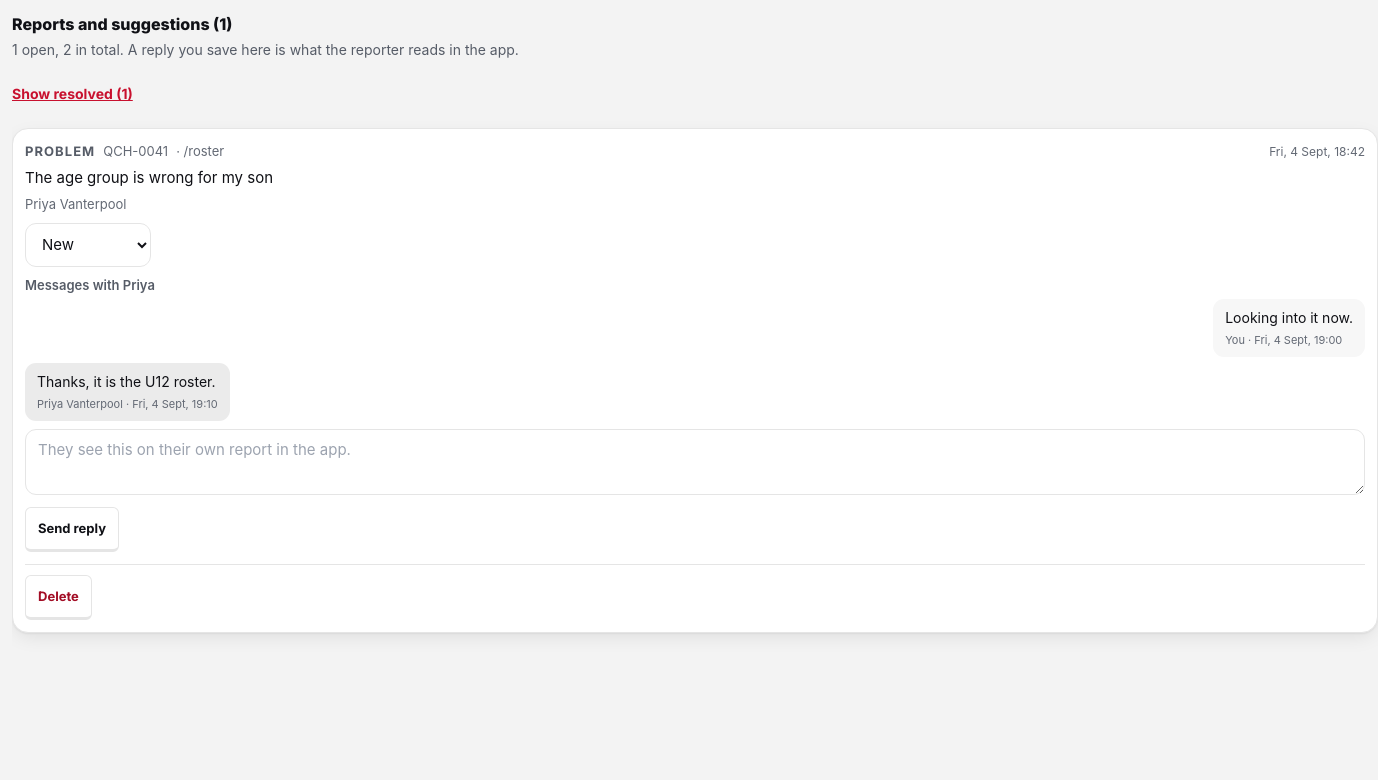
Scenario: the triage list › puts the truth back when a status change fails
The image size is (1378, 780).
Select "Done" in the dropdown named "status for QCH-0041" at (88, 245), box x1=25 y1=223 x2=151 y2=267
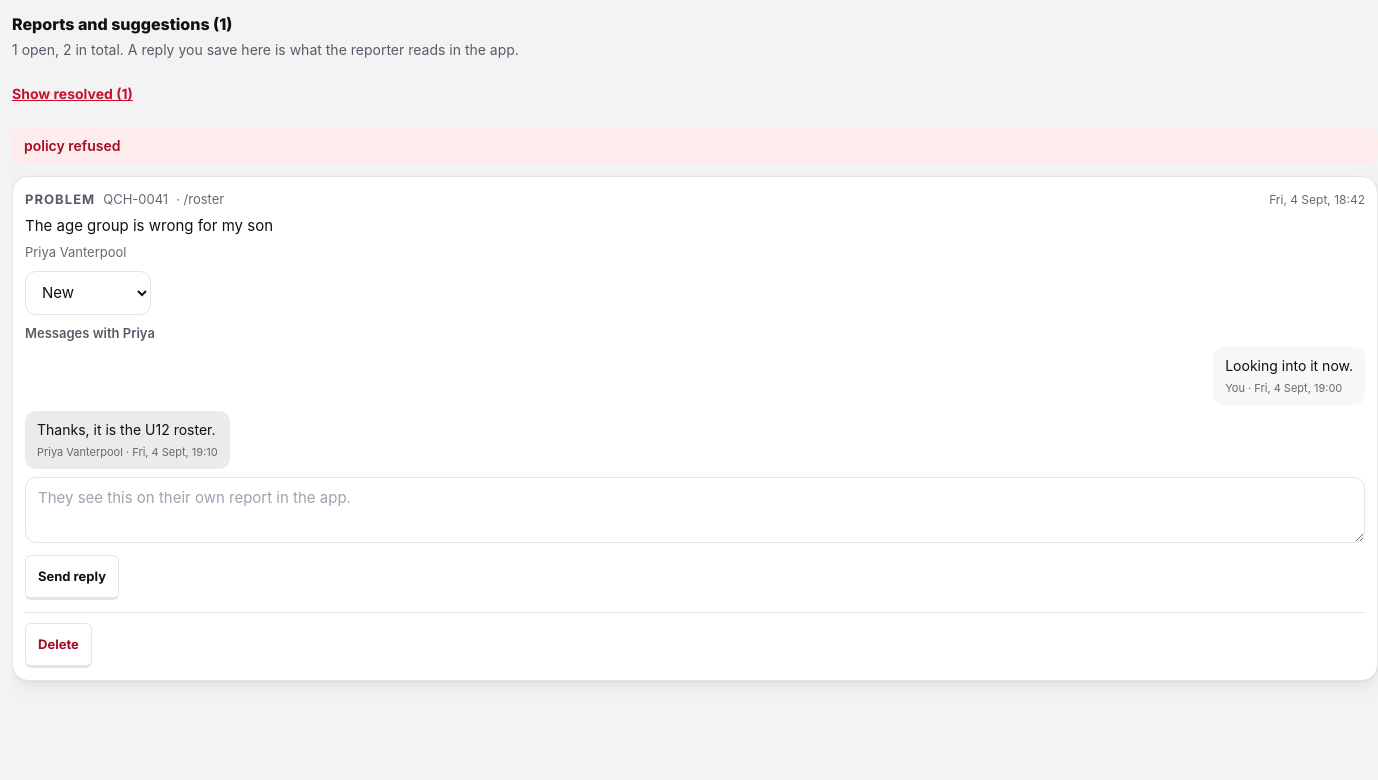
Result: the message reads "policy refused" at x1=24 y1=137 x2=120 y2=154
